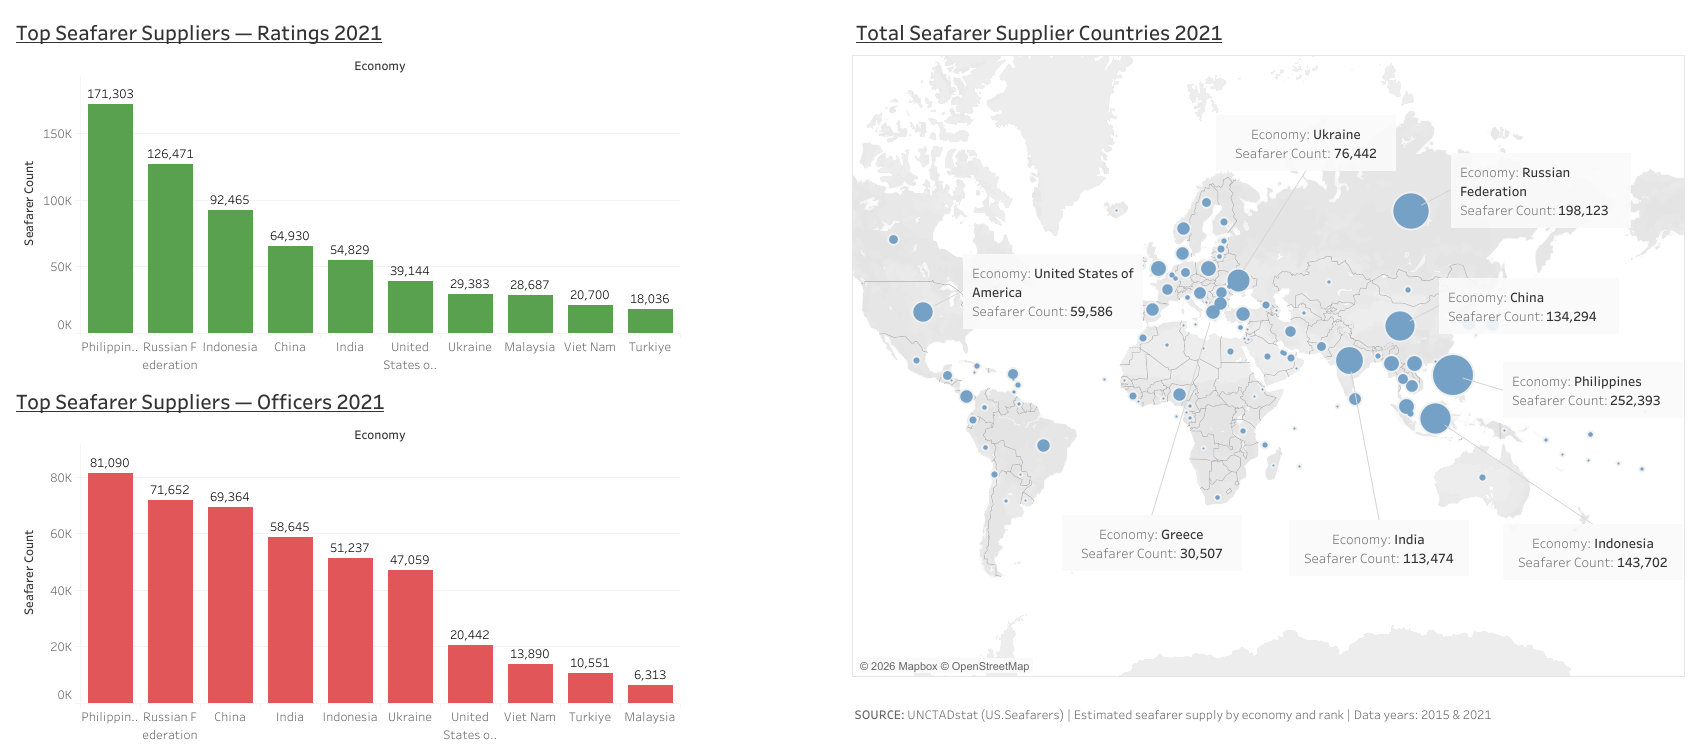

What the dashboard file says about the page in this screenshot:
{"tool":"tableau","page":{"name":"Seafarers","canvas":[1000,1000],"units":"permille","ordinal":2},"visuals":[{"type":"worksheet","title":"Top Seafarer Suppliers — Ratings 2021","mark":"Automatic","rows":["Seafarer_Count"],"cols":["Economy"],"box":[6.2,7.8,493.6,492.2]},{"type":"worksheet","title":"Total Seafarer Supplier Countries 2021","mark":"Automatic","box":[499.9,7.8,493.9,896.3]},{"type":"worksheet","title":"Top Seafarer Suppliers — Officers 2021","mark":"Automatic","rows":["Seafarer_Count"],"cols":["Economy"],"box":[6.2,500,493.6,492.2]},{"type":"text","box":[499.9,904.1,493.9,88]}]}

Visuals, with their boxes on the dashboard's canvas, which has no fixed pixel size, in thousandths of its width and height (x1, y1, x2, y2). These are canvas units, not pixel positions in the 1696x754 screenshot, which may show the page scaled, cropped or inside an application window:
"Top Seafarer Suppliers — Ratings 2021" worksheet: l=6, t=8, r=500, b=500
"Total Seafarer Supplier Countries 2021" worksheet: l=500, t=8, r=994, b=904
"Top Seafarer Suppliers — Officers 2021" worksheet: l=6, t=500, r=500, b=992
text: l=500, t=904, r=994, b=992
